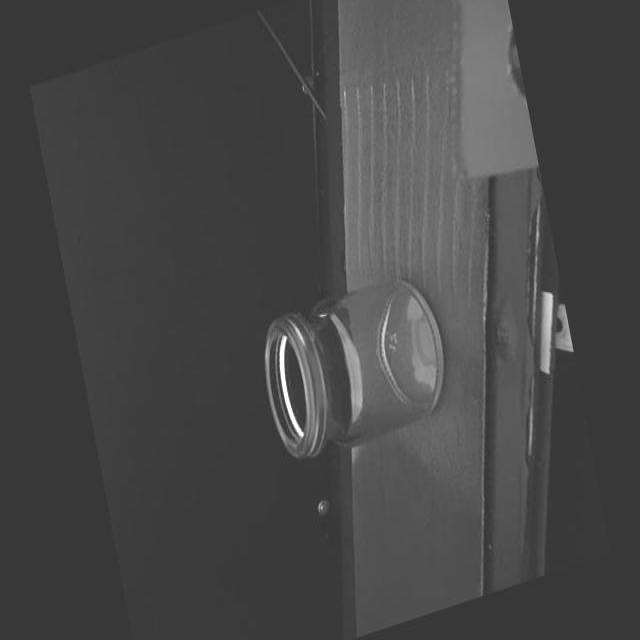defect: (316, 309, 327, 319)
glass: (253, 260, 460, 471)
